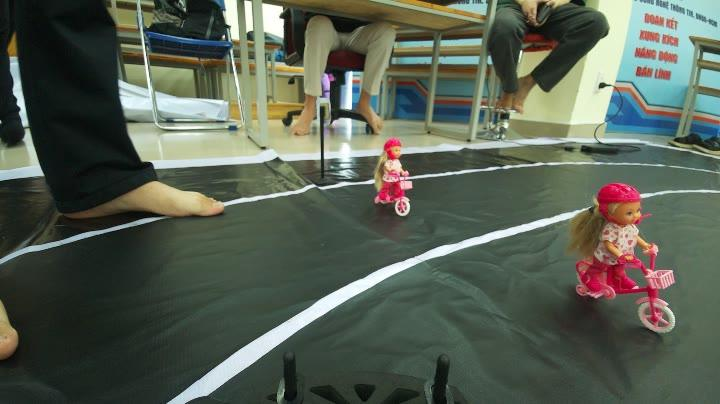pedestrian: (570, 176, 680, 340), (372, 132, 427, 227)
